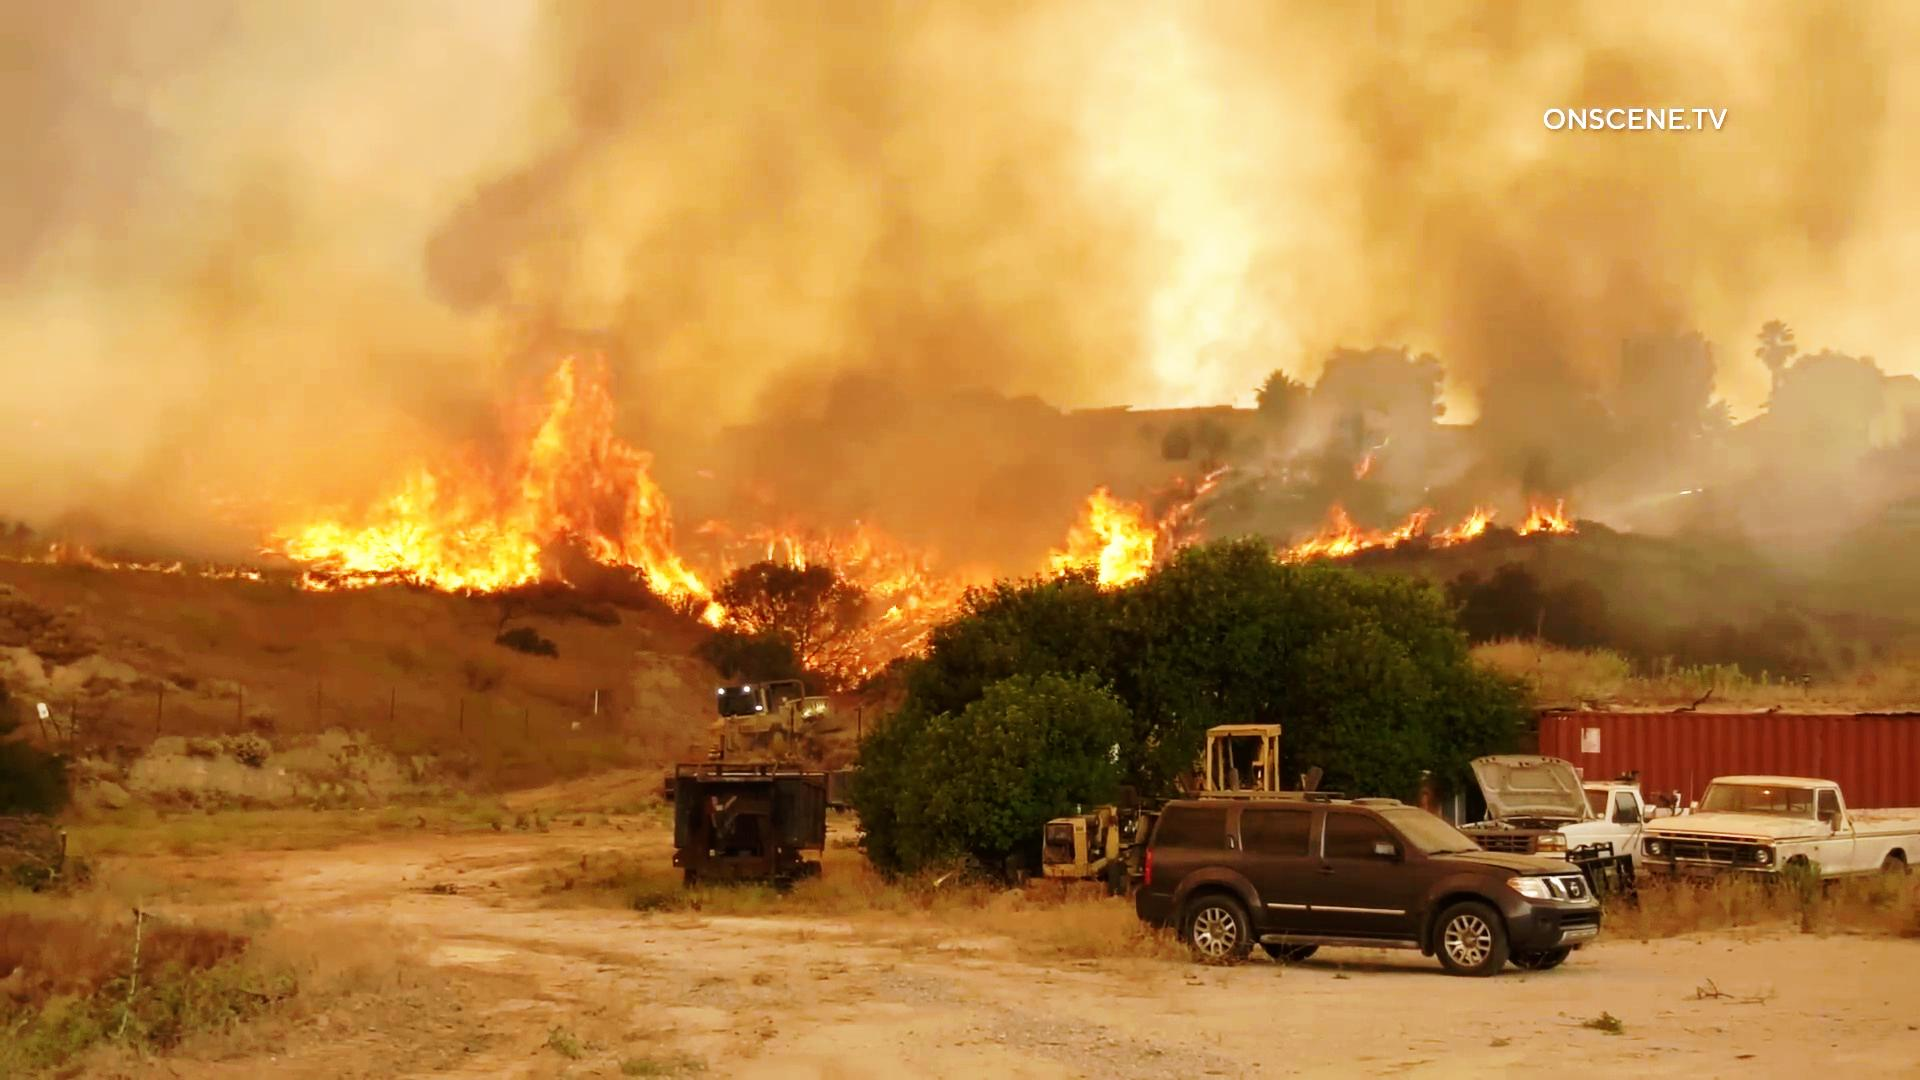fire: (268, 371, 702, 625), (728, 496, 1004, 666), (1278, 498, 1578, 553), (1073, 485, 1191, 596)
smoke: (951, 28, 1317, 386), (1408, 175, 1900, 352), (491, 47, 719, 316)
